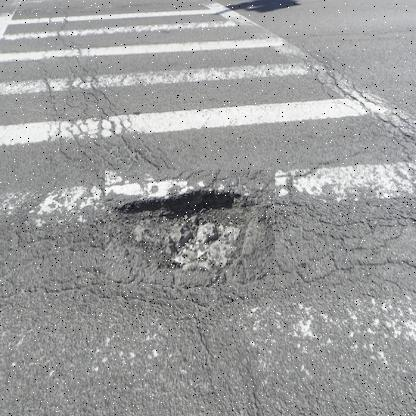pothole: (104, 170, 275, 288)
